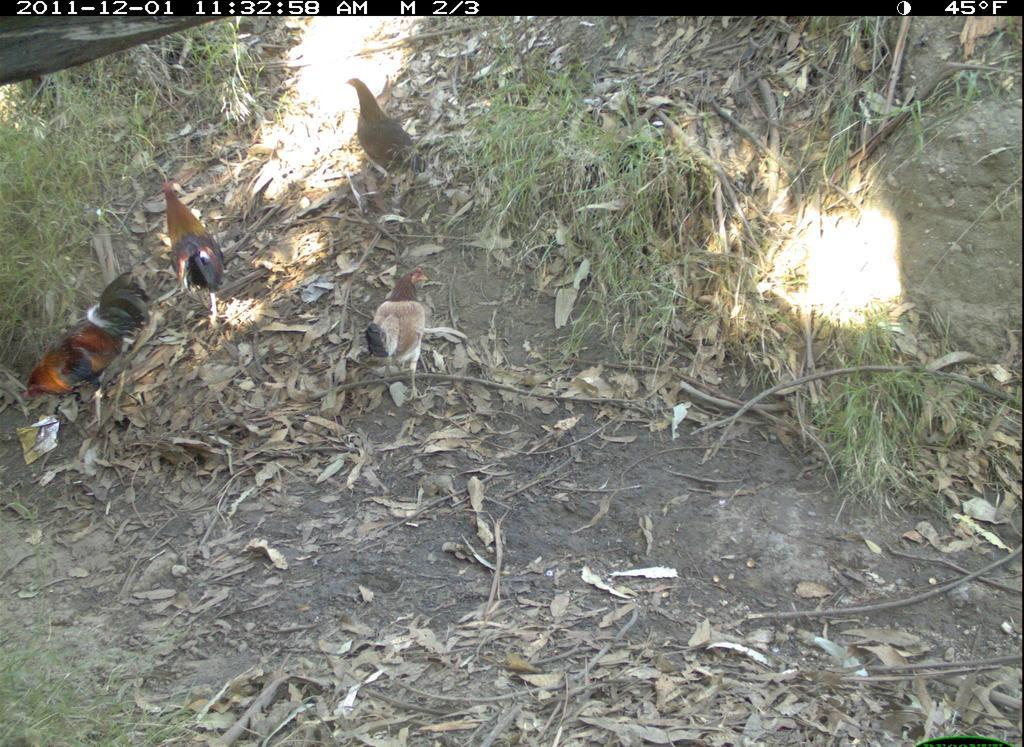bird: (18, 268, 156, 435), (341, 75, 432, 199), (158, 176, 228, 331), (361, 263, 433, 408)
